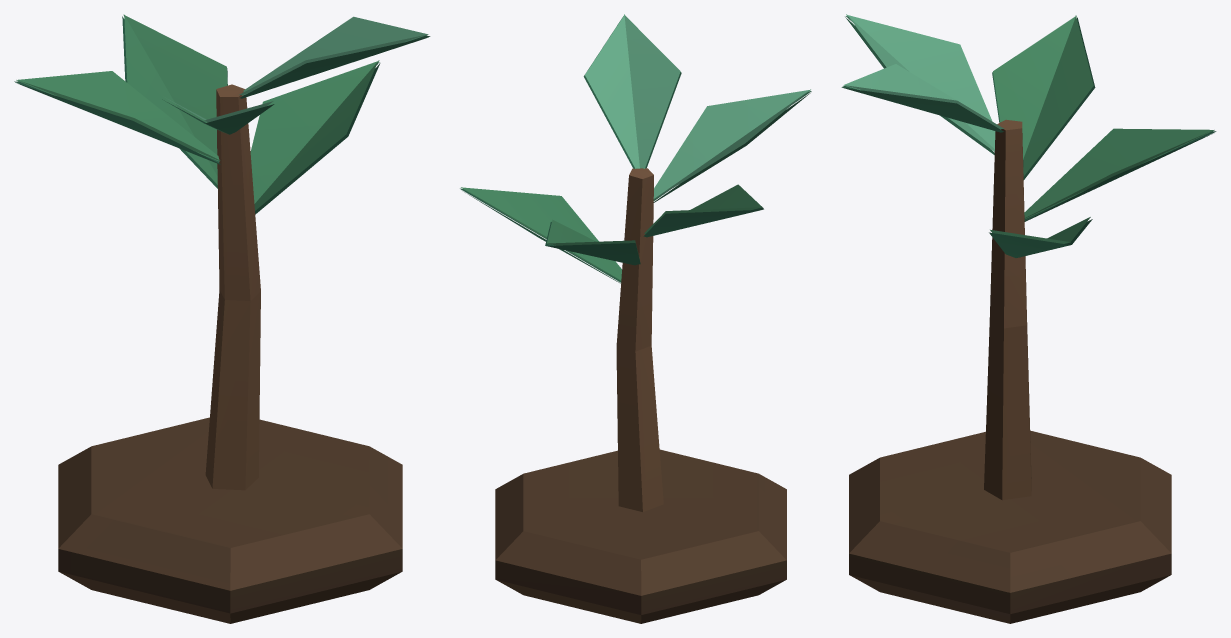
Rendered from custom-muda-etapa-2.glb.
3 views of the same model, side by side, from view 1: azimuth 30°, elevation 25°; view 2: azimuth 150°, elevation 25°; view 3: azimuth 270°, elevation 25° (orthographic). The views are drawn at different scales.
Visible parts, largest first — view 1: muda-etapa-2; view 2: muda-etapa-2; view 3: muda-etapa-2.
Part boxes in pixels (x1,y1,x2,y2): muda-etapa-2: (14,14,430,623); muda-etapa-2: (460,14,811,623); muda-etapa-2: (841,14,1216,623).
Size of the model in its own units: 0.802 by 1.18 by 0.7662.
